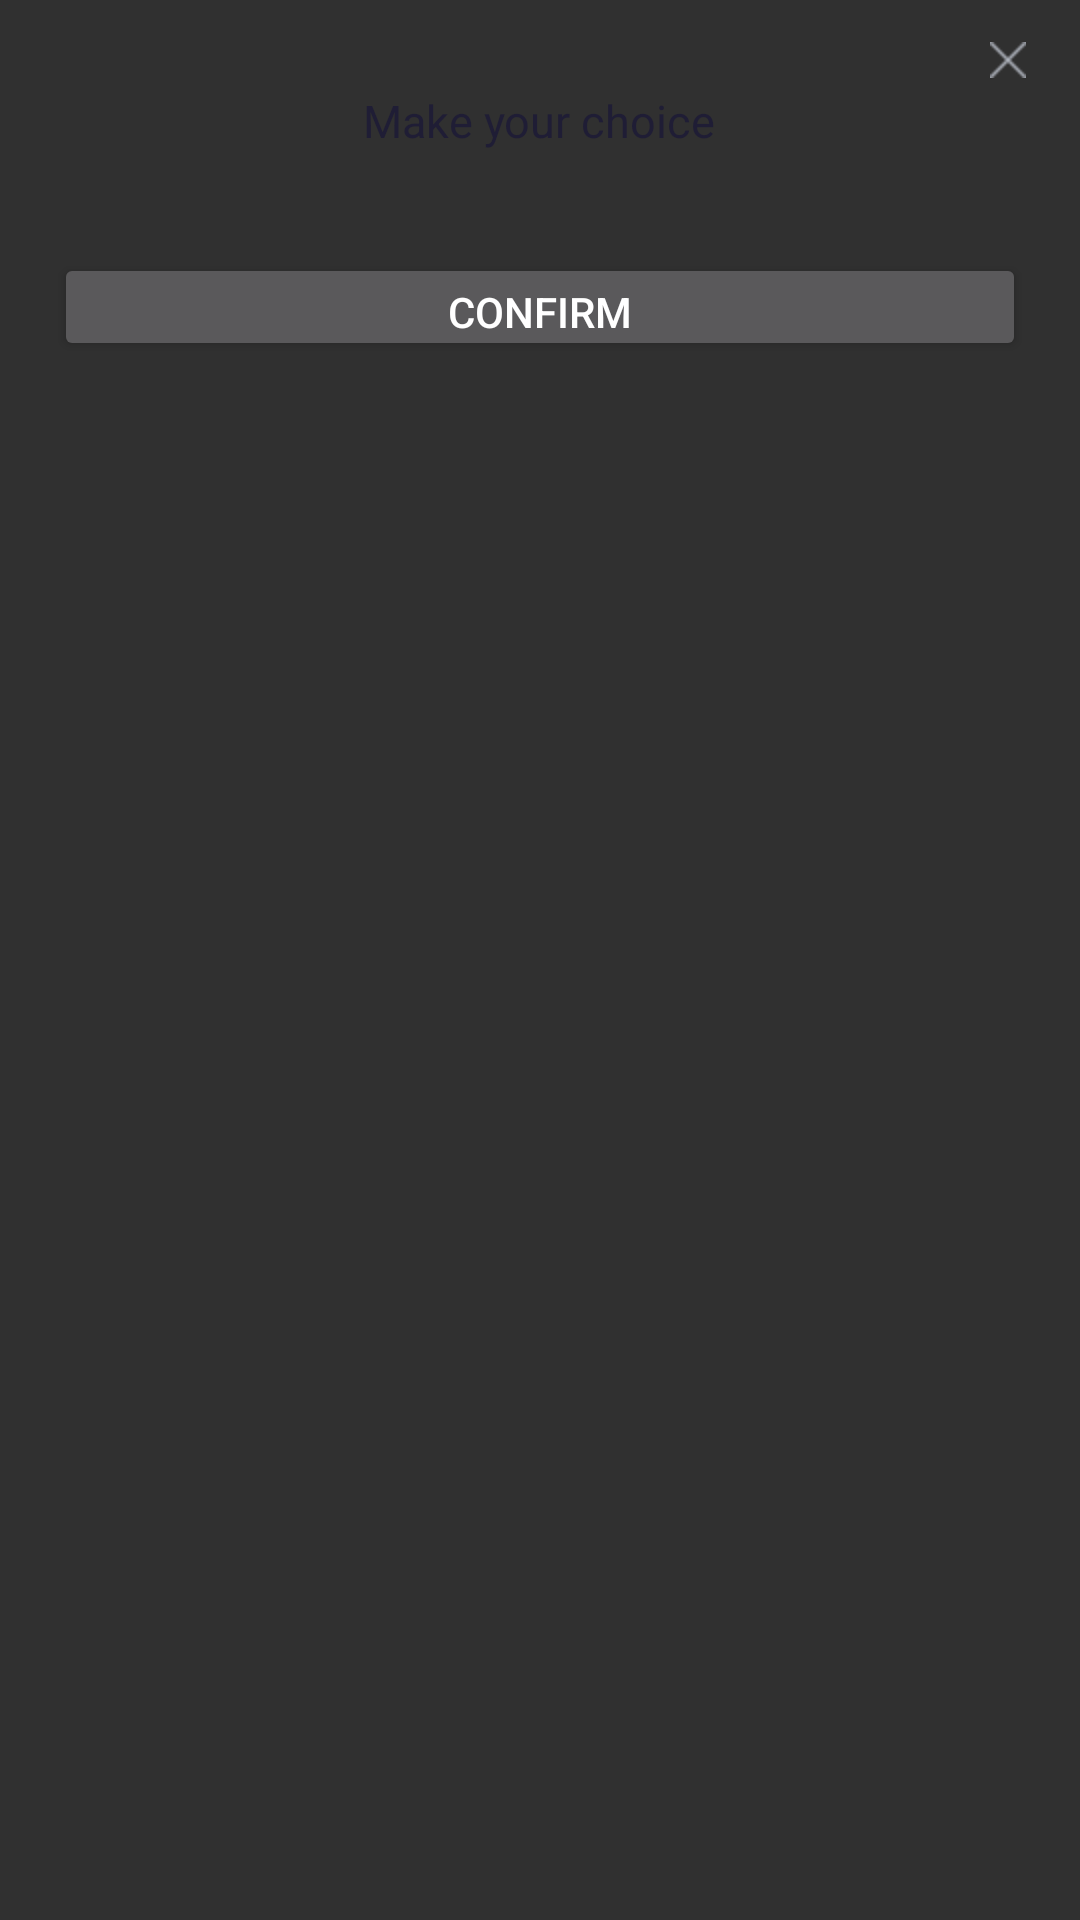

Point at icon controls on the screen. Image size 1080w x 1920h, points as point (x, y).
close: point (1008, 60)
